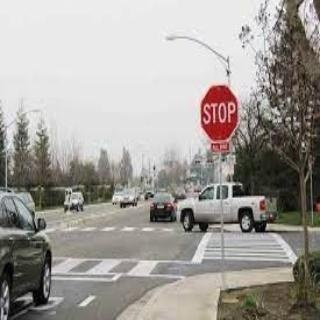sign_stop: (202, 85, 237, 142)
